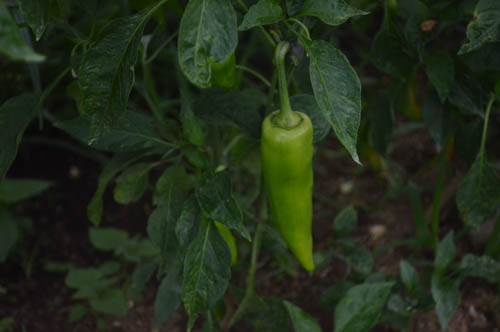ChiliPepper: (264, 116, 318, 270)
